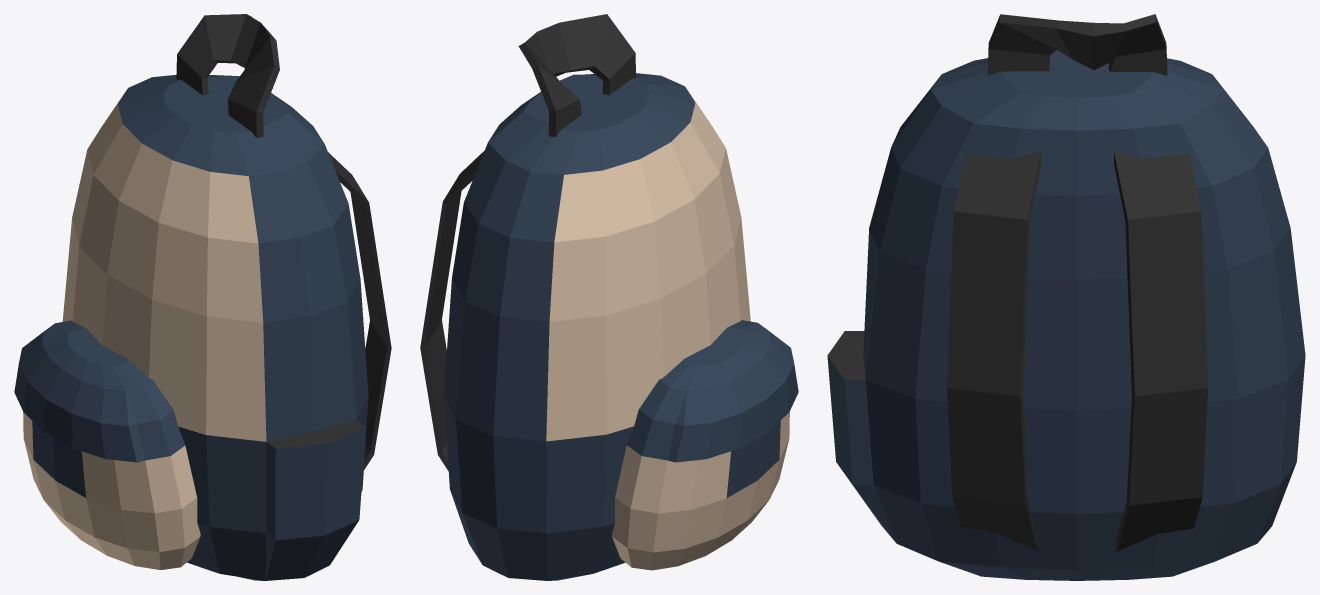
Rendered from backpack.fbx.
3 views of the same model, side by side, from view 1: azimuth 30°, elevation 25°; view 2: azimuth 150°, elevation 25°; view 3: azimuth 270°, elevation 25° (orthographic). The views are drawn at different scales.
Visible parts, largest first — view 1: Backpack; view 2: Backpack; view 3: Backpack.
Boxes of the visible parts, x1,y1,x2,y2 form: Backpack: (14,14,391,580); Backpack: (420,14,798,580); Backpack: (827,14,1305,580).
Size of the model in its own units: 162 by 251 by 196.
